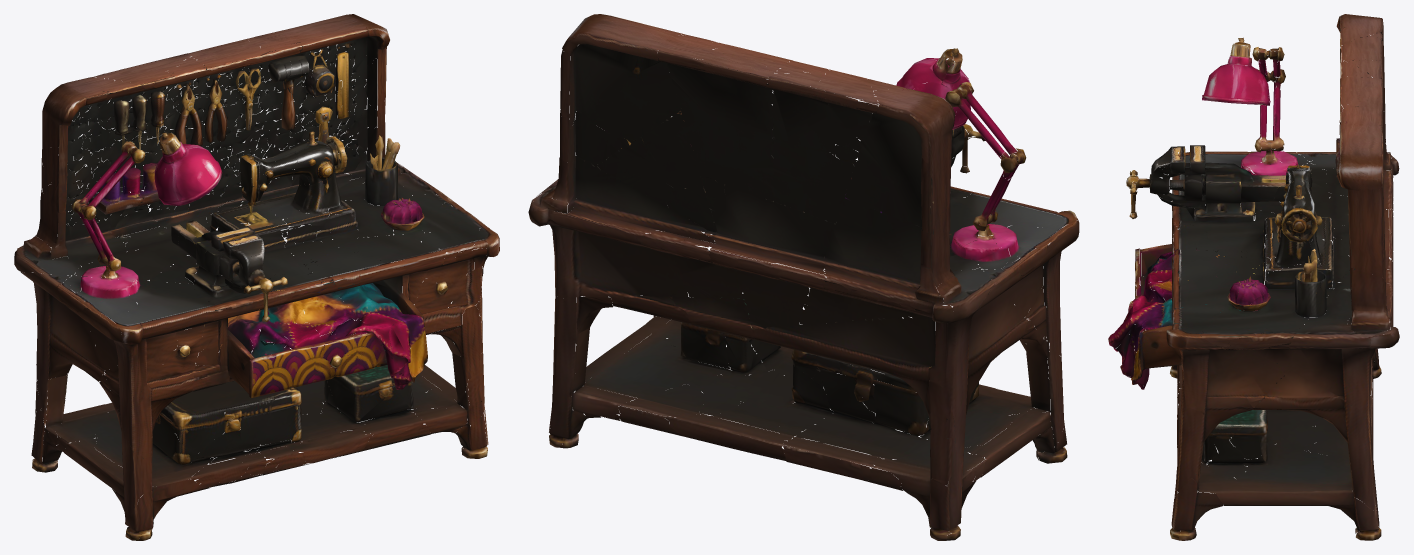
The model's file is bench.glb.
3 renders of one model, left to right at view 1: azimuth 30°, elevation 25°; view 2: azimuth 150°, elevation 25°; view 3: azimuth 270°, elevation 25°, orthographic. The views are drawn at different scales.
Visible parts, largest first — view 1: tripo_node_4ca35f39-9e7f-4d7c-873d-bf7b9e9d8ece; view 2: tripo_node_4ca35f39-9e7f-4d7c-873d-bf7b9e9d8ece; view 3: tripo_node_4ca35f39-9e7f-4d7c-873d-bf7b9e9d8ece.
Part boxes in pixels (x1,y1,x2,y2): tripo_node_4ca35f39-9e7f-4d7c-873d-bf7b9e9d8ece: (14,14,499,540); tripo_node_4ca35f39-9e7f-4d7c-873d-bf7b9e9d8ece: (528,14,1079,540); tripo_node_4ca35f39-9e7f-4d7c-873d-bf7b9e9d8ece: (1108,14,1399,540).
Bounding box in the file's own units: 1 × 0.9214 × 0.6604.
1 material, 1 textured.
